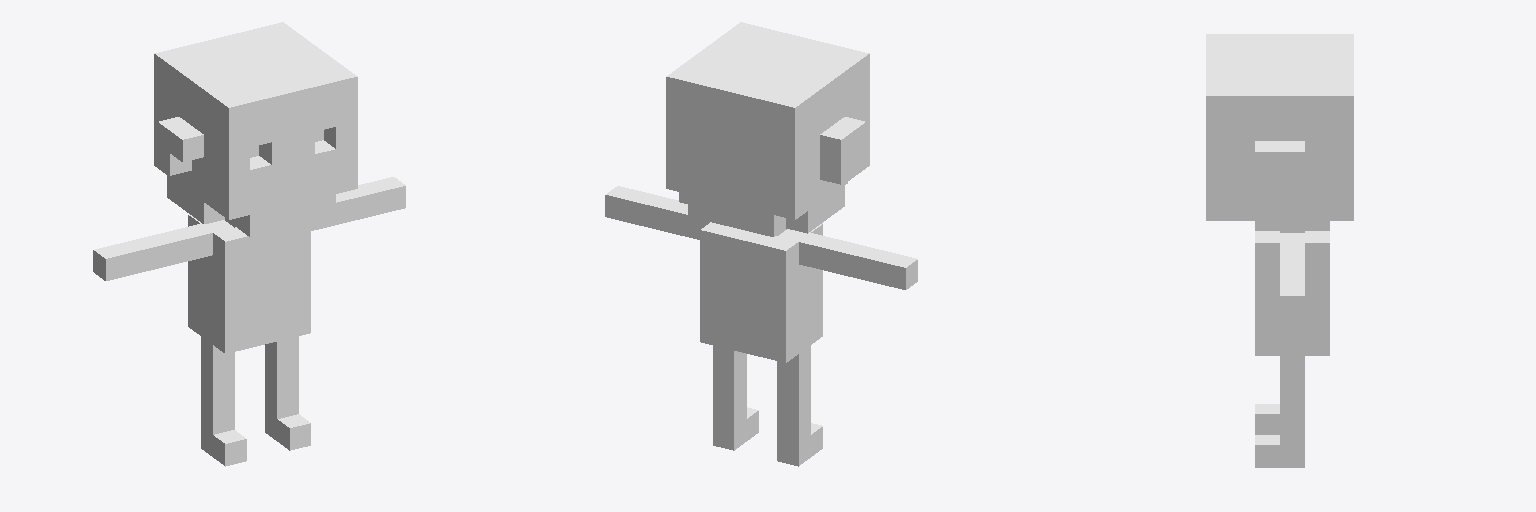
Rendered from RunnerSkin1.obj.
The picture shows the model from 3 angles: view 1: azimuth 30°, elevation 25°; view 2: azimuth 150°, elevation 25°; view 3: azimuth 270°, elevation 25°; orthographic projection.
Size of the model in its own units: 14 by 17 by 6.